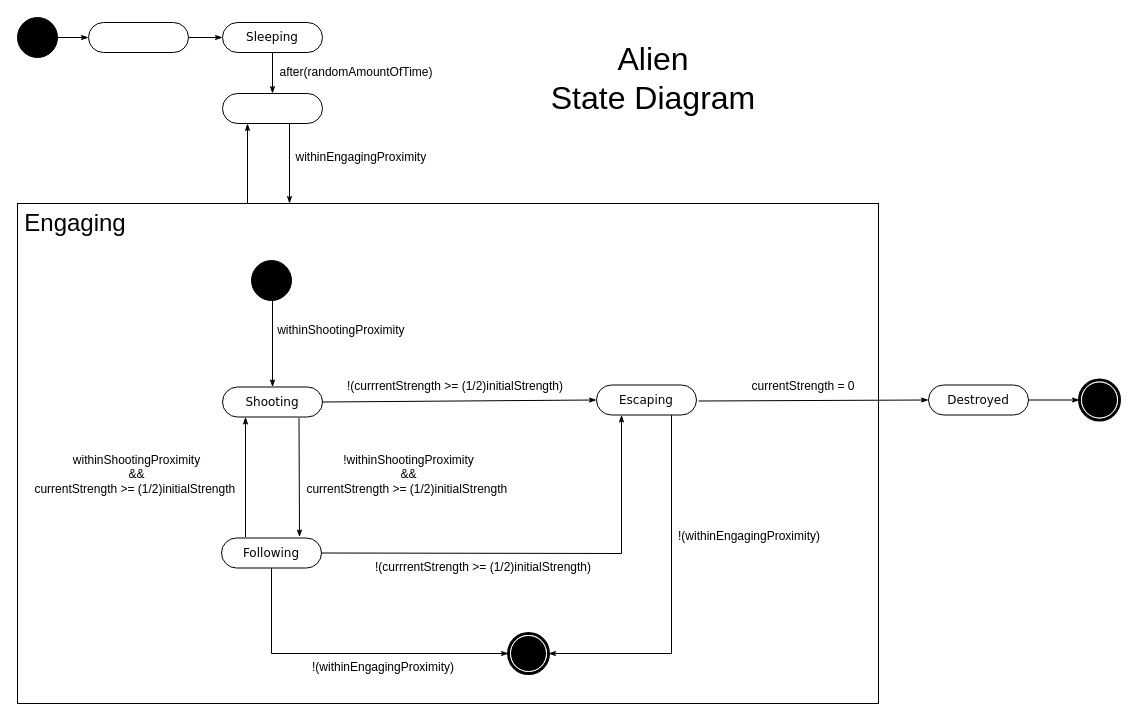
The diagram is 1137 pixels wide and 721 high, and some of its shapes have lost their labels. Here are the shapes that lost their labels. From the top down, the centre of each, then its label:
At (x=138, y=37): "Created".
At (x=272, y=108): "Wandering".
